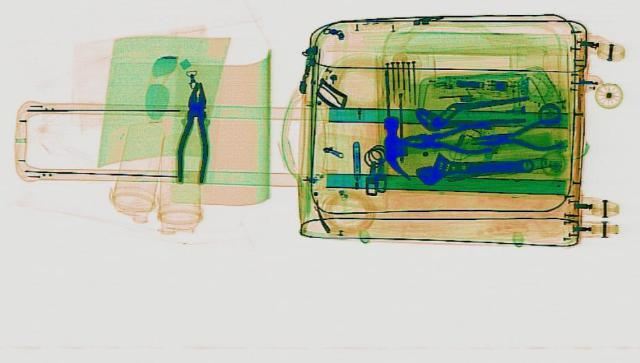Pliers: (171, 81, 213, 182), (464, 117, 568, 155), (396, 121, 494, 155)
Wrench: (412, 148, 534, 183)
